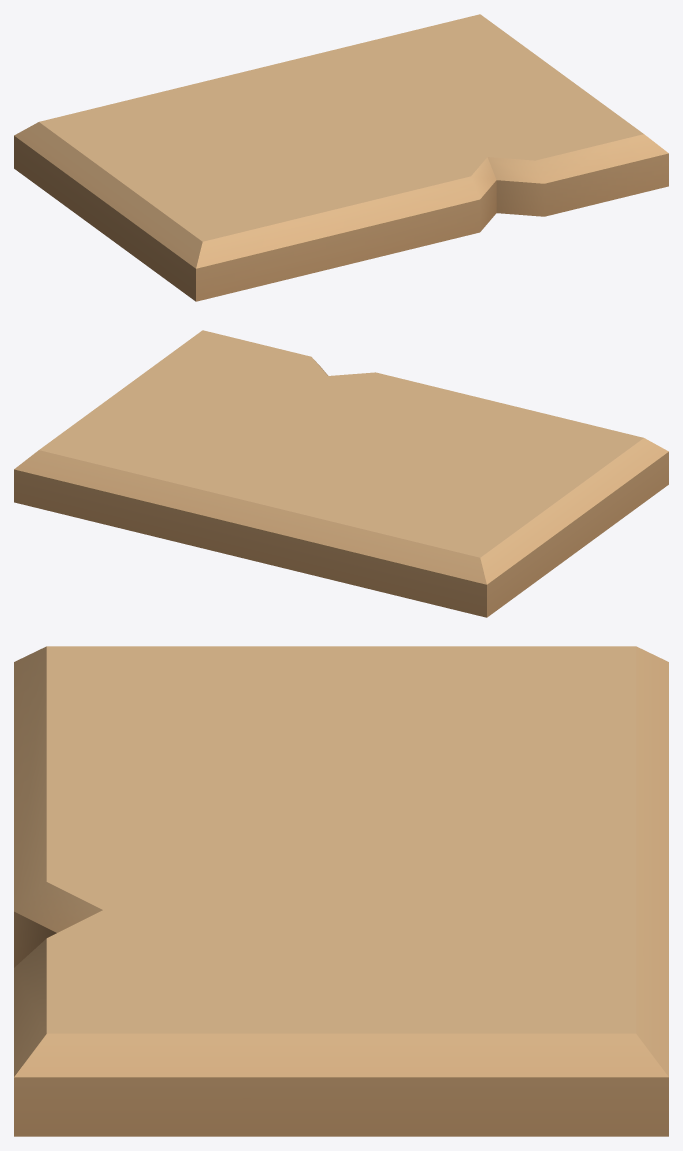
The model's file is kay-cuttingboard.glb.
3 views of the same model, one above another, from view 1: azimuth 30°, elevation 25°; view 2: azimuth 150°, elevation 25°; view 3: azimuth 270°, elevation 25° (orthographic). The views are drawn at different scales.
Parts seen in each view (by area): view 1: cuttingboard; view 2: cuttingboard; view 3: cuttingboard.
Part boxes in pixels (x1,y1,x2,y2): cuttingboard: (14,14,668,301); cuttingboard: (14,330,668,617); cuttingboard: (14,646,668,1136).
Size of the model in its own units: 0.4 by 0.04 by 0.2667.
1 material, 1 textured.
